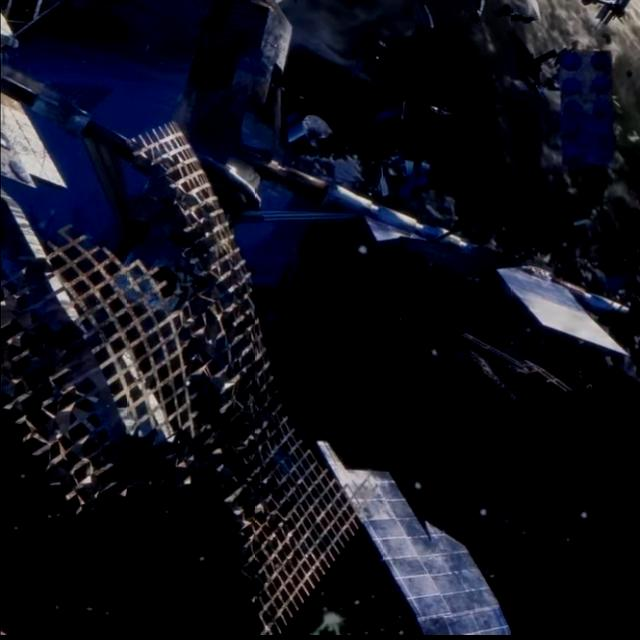large_debris: (0, 0, 619, 363), (0, 124, 361, 640), (313, 428, 521, 640), (545, 39, 631, 179)
